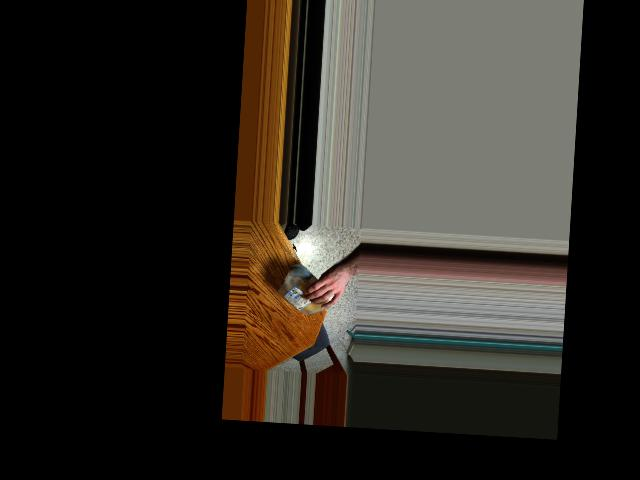cheese: (274, 263, 340, 318)
